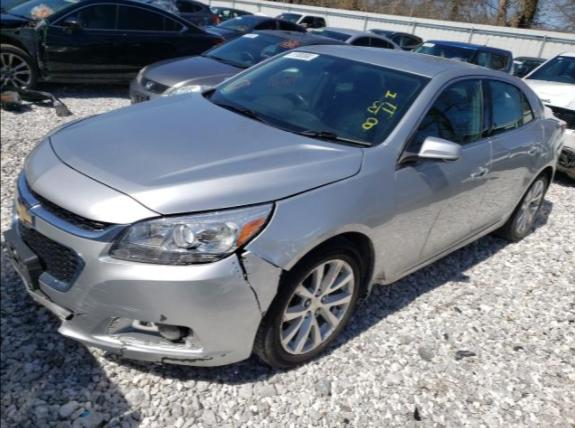Broken part: (4, 175, 289, 366)
Dent: (364, 271, 386, 302)
Paint chip: (158, 313, 167, 322)
Scratch: (73, 281, 148, 315)
